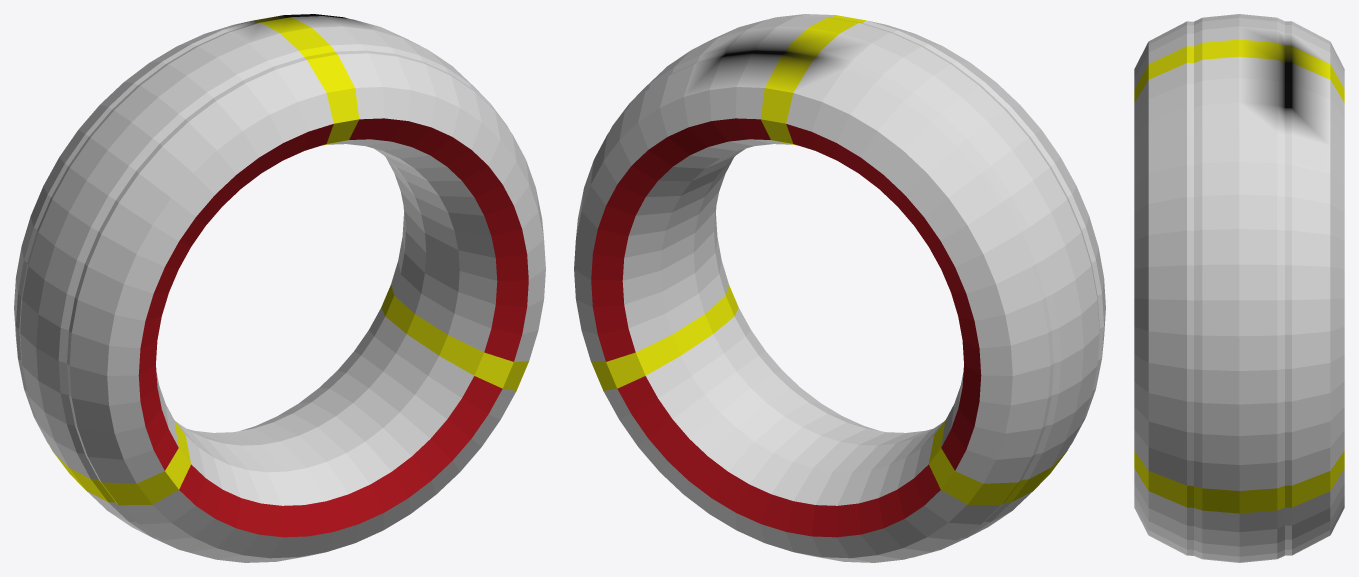
3 views of the same model, side by side, from view 1: azimuth 30°, elevation 25°; view 2: azimuth 150°, elevation 25°; view 3: azimuth 270°, elevation 25° (orthographic). The views are drawn at different scales.
Visible parts, largest first — view 1: Torus; view 2: Torus; view 3: Torus.
Boxes of the visible parts, x1,y1,x2,y2 form: Torus: (14,14,545,562); Torus: (574,14,1105,562); Torus: (1134,14,1344,562).
Size of the model in its own units: 250 by 250 by 95.57.
